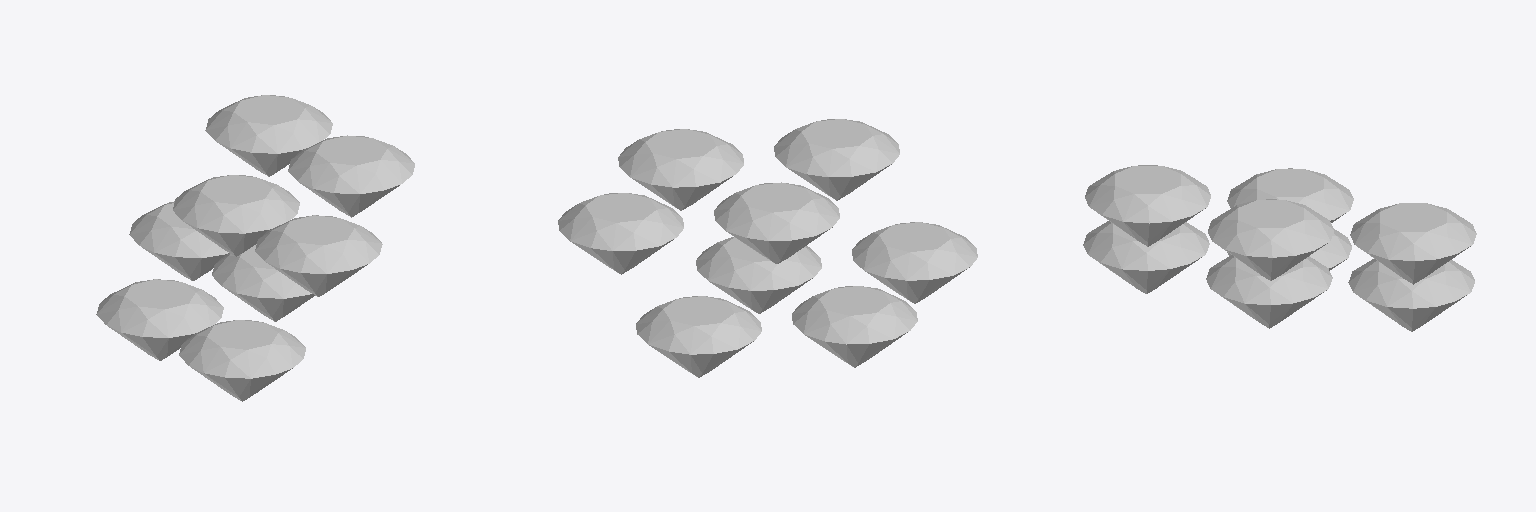
The model's file is eightdiamond.obj.
3 views of the same model, side by side, from view 1: azimuth 30°, elevation 25°; view 2: azimuth 150°, elevation 25°; view 3: azimuth 270°, elevation 25° (orthographic).
Size of the model in its own units: 5.24 by 2.96 by 6.11.